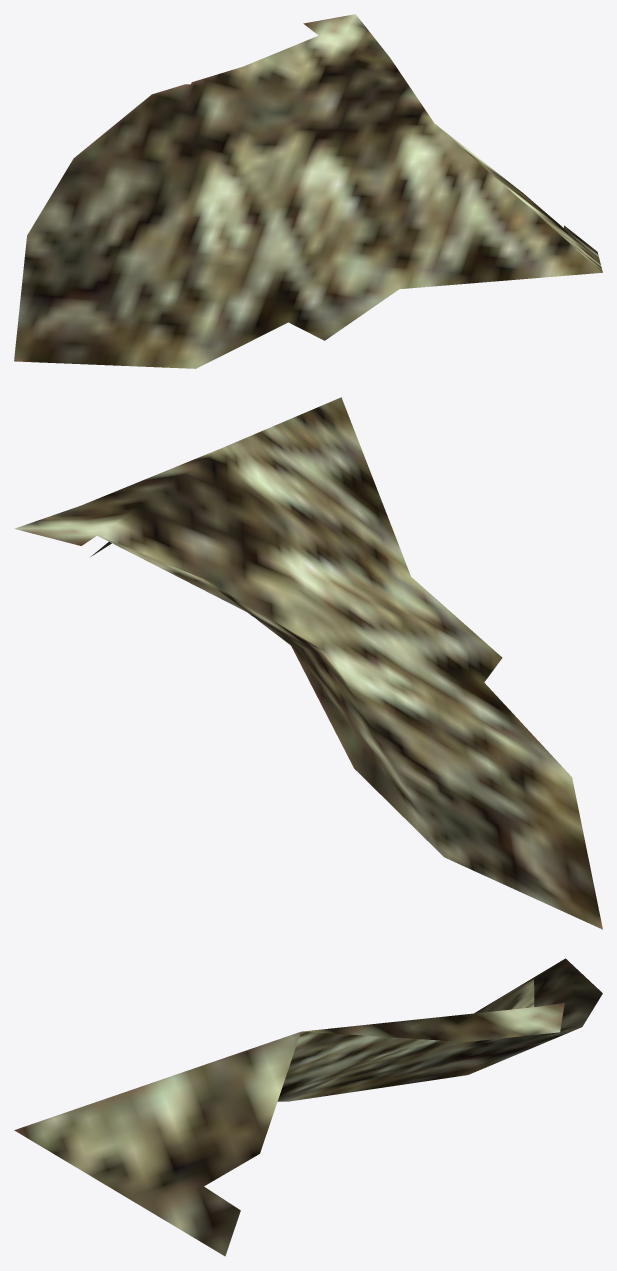
Rendered from kapre_loincloth.fbx.
3 views of the same model, one above another, from view 1: azimuth 30°, elevation 25°; view 2: azimuth 150°, elevation 25°; view 3: azimuth 270°, elevation 25° (orthographic). The views are drawn at different scales.
Parts seen in each view (by area): view 1: loincloth; view 2: loincloth; view 3: loincloth.
Part boxes in pixels (x1,y1,x2,y2): loincloth: (14,14,602,368); loincloth: (14,397,602,929); loincloth: (14,958,602,1256).
Size of the model in its own units: 375 by 170 by 355.
1 material, 1 textured.
